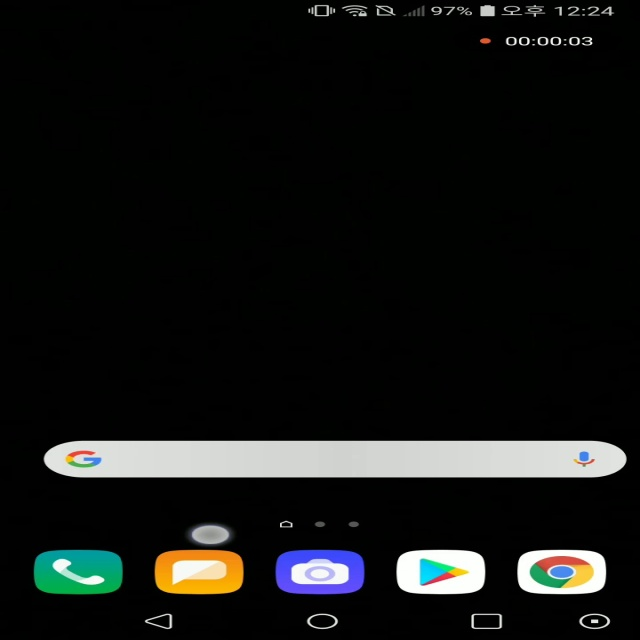Cursor: (190, 524, 234, 546)
